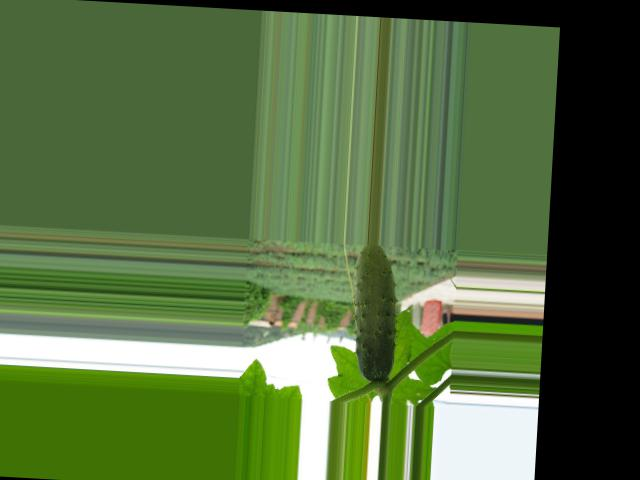cucumber: (349, 243, 400, 382)
